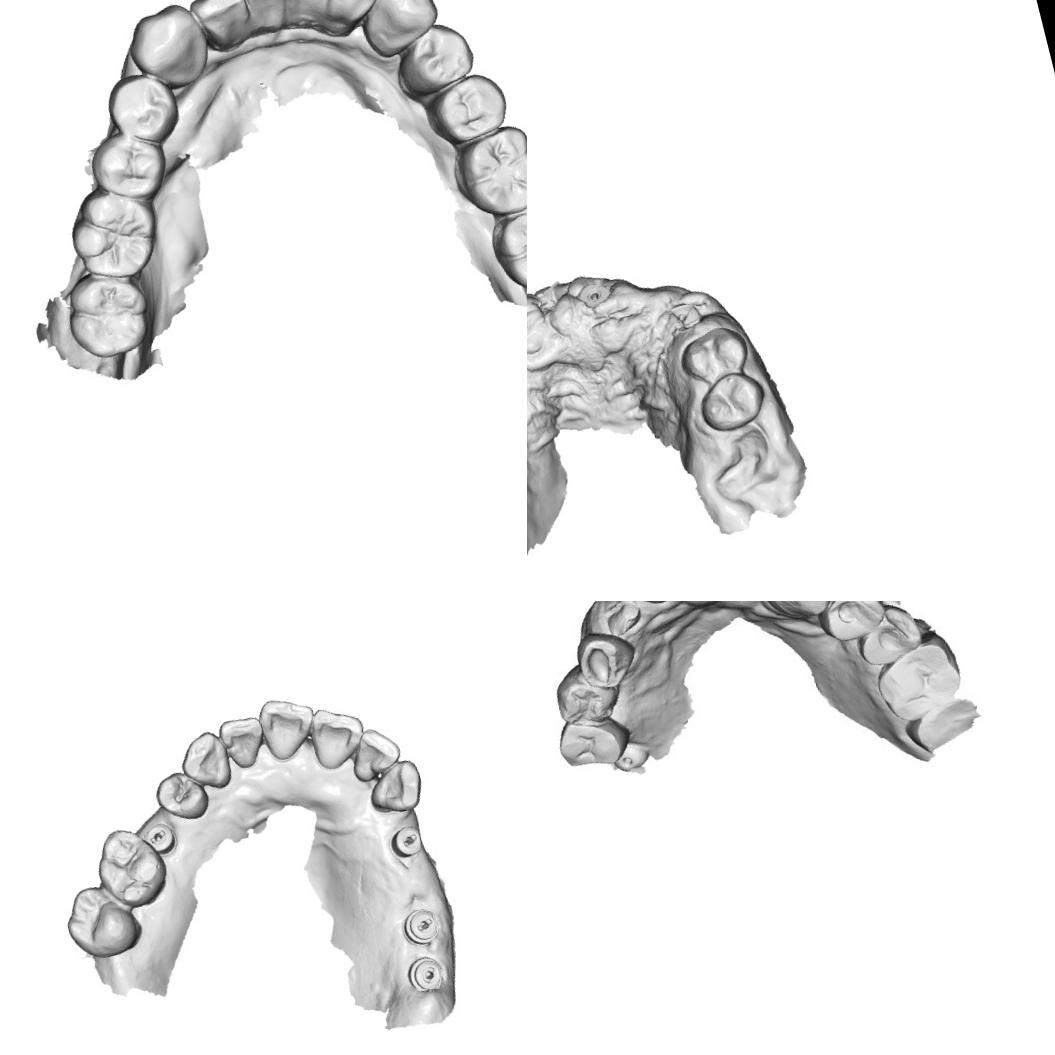canine: (123, 0, 216, 97), (172, 724, 236, 798), (356, 0, 445, 53), (361, 756, 430, 820), (574, 630, 636, 687), (759, 601, 835, 625)
implant: (572, 277, 614, 311)
implant_minus: (397, 902, 443, 949), (402, 951, 448, 998), (385, 820, 427, 862), (142, 816, 182, 858)
incisor: (252, 688, 324, 764), (304, 697, 373, 774), (342, 720, 406, 785), (214, 710, 272, 774), (182, 0, 250, 50), (234, 0, 301, 37), (320, 0, 384, 33), (277, 0, 337, 32)
molar: (60, 178, 172, 290), (59, 264, 161, 365), (85, 818, 175, 918), (445, 115, 527, 224), (56, 874, 148, 966), (874, 639, 964, 724), (553, 708, 630, 776), (481, 197, 527, 303), (550, 664, 621, 729), (854, 606, 921, 664)
premolar: (418, 65, 513, 150), (98, 64, 188, 152), (392, 14, 480, 98), (83, 126, 170, 210), (692, 365, 771, 436), (673, 320, 753, 389), (148, 762, 213, 828), (817, 601, 889, 644)
